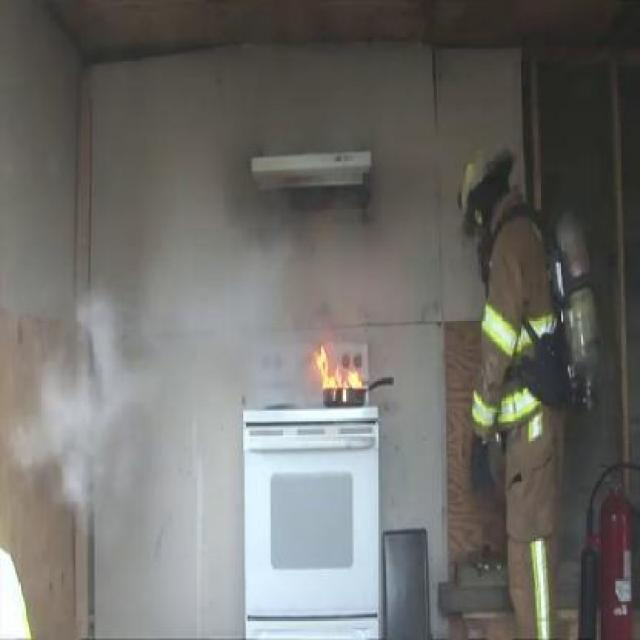fire: (318, 352, 364, 394)
smoke: (34, 316, 160, 538)
